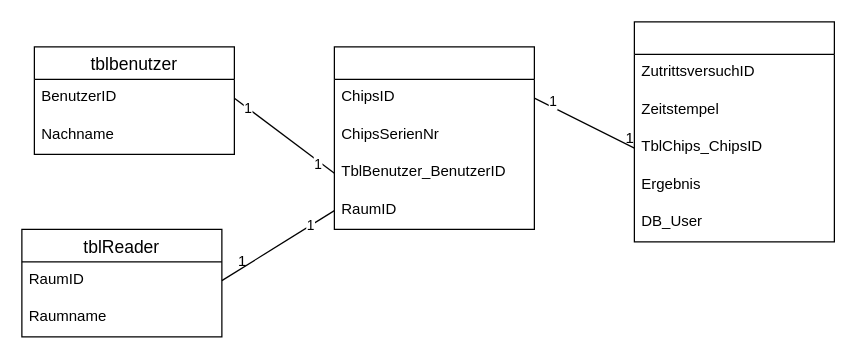
This 856x363 diagram has some shape labels left out. The box of each missing label's shape, as (x1, y1, x2, y2) in pixels:
tblChips: (333, 46, 534, 229)
tblzutrittsversuche: (633, 21, 834, 242)
